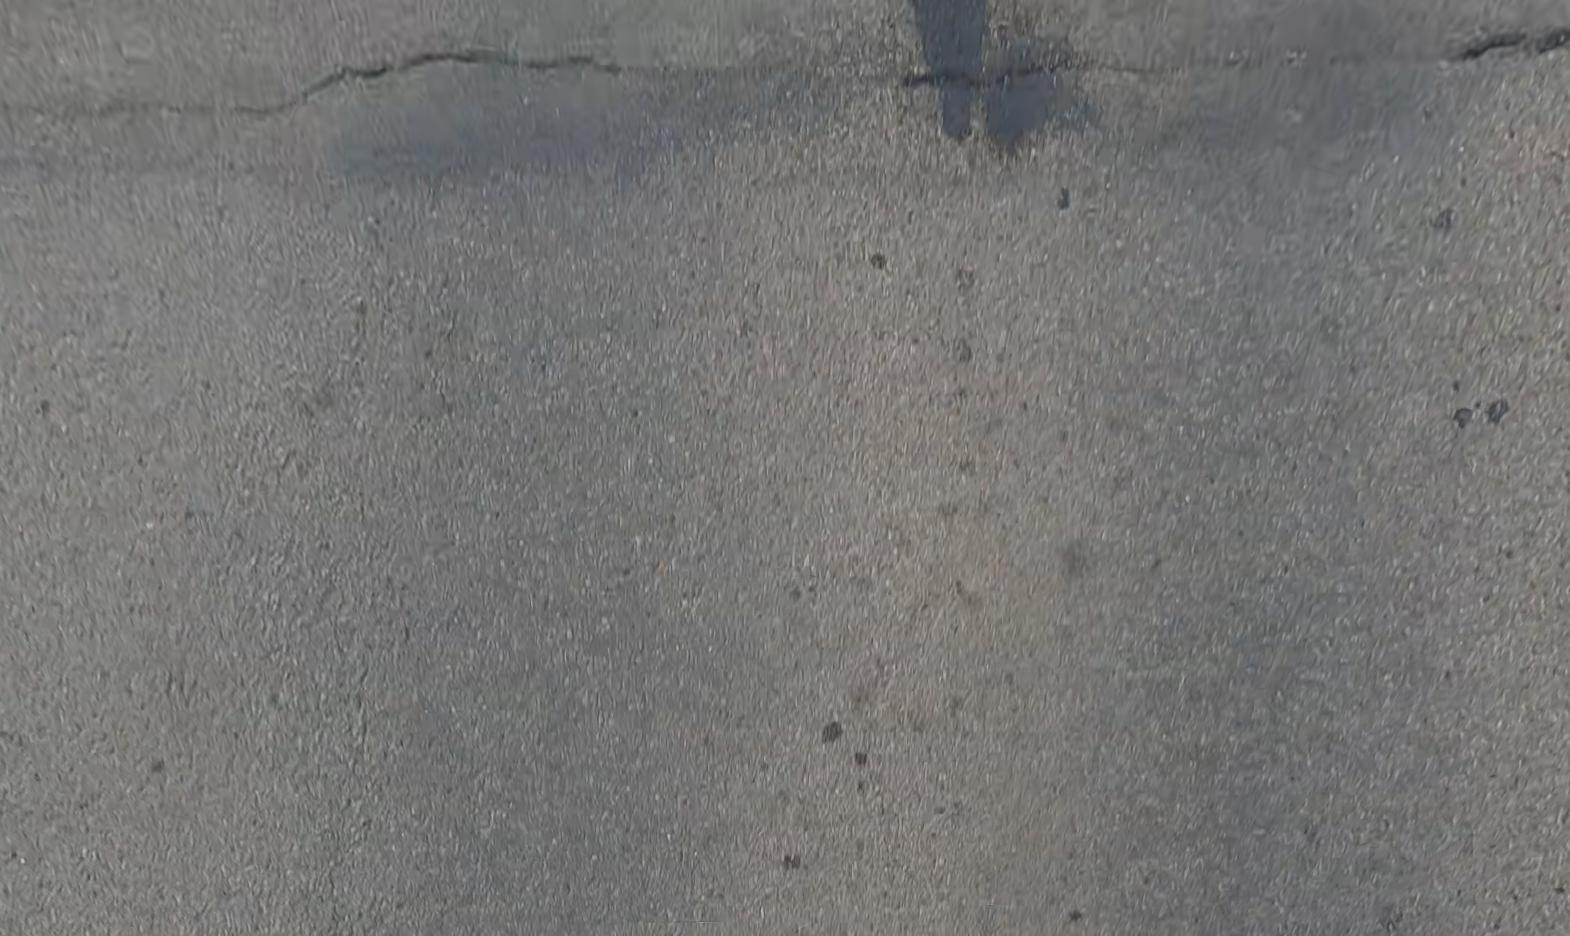pothole_patch_poor: (916, 0, 1074, 144)
